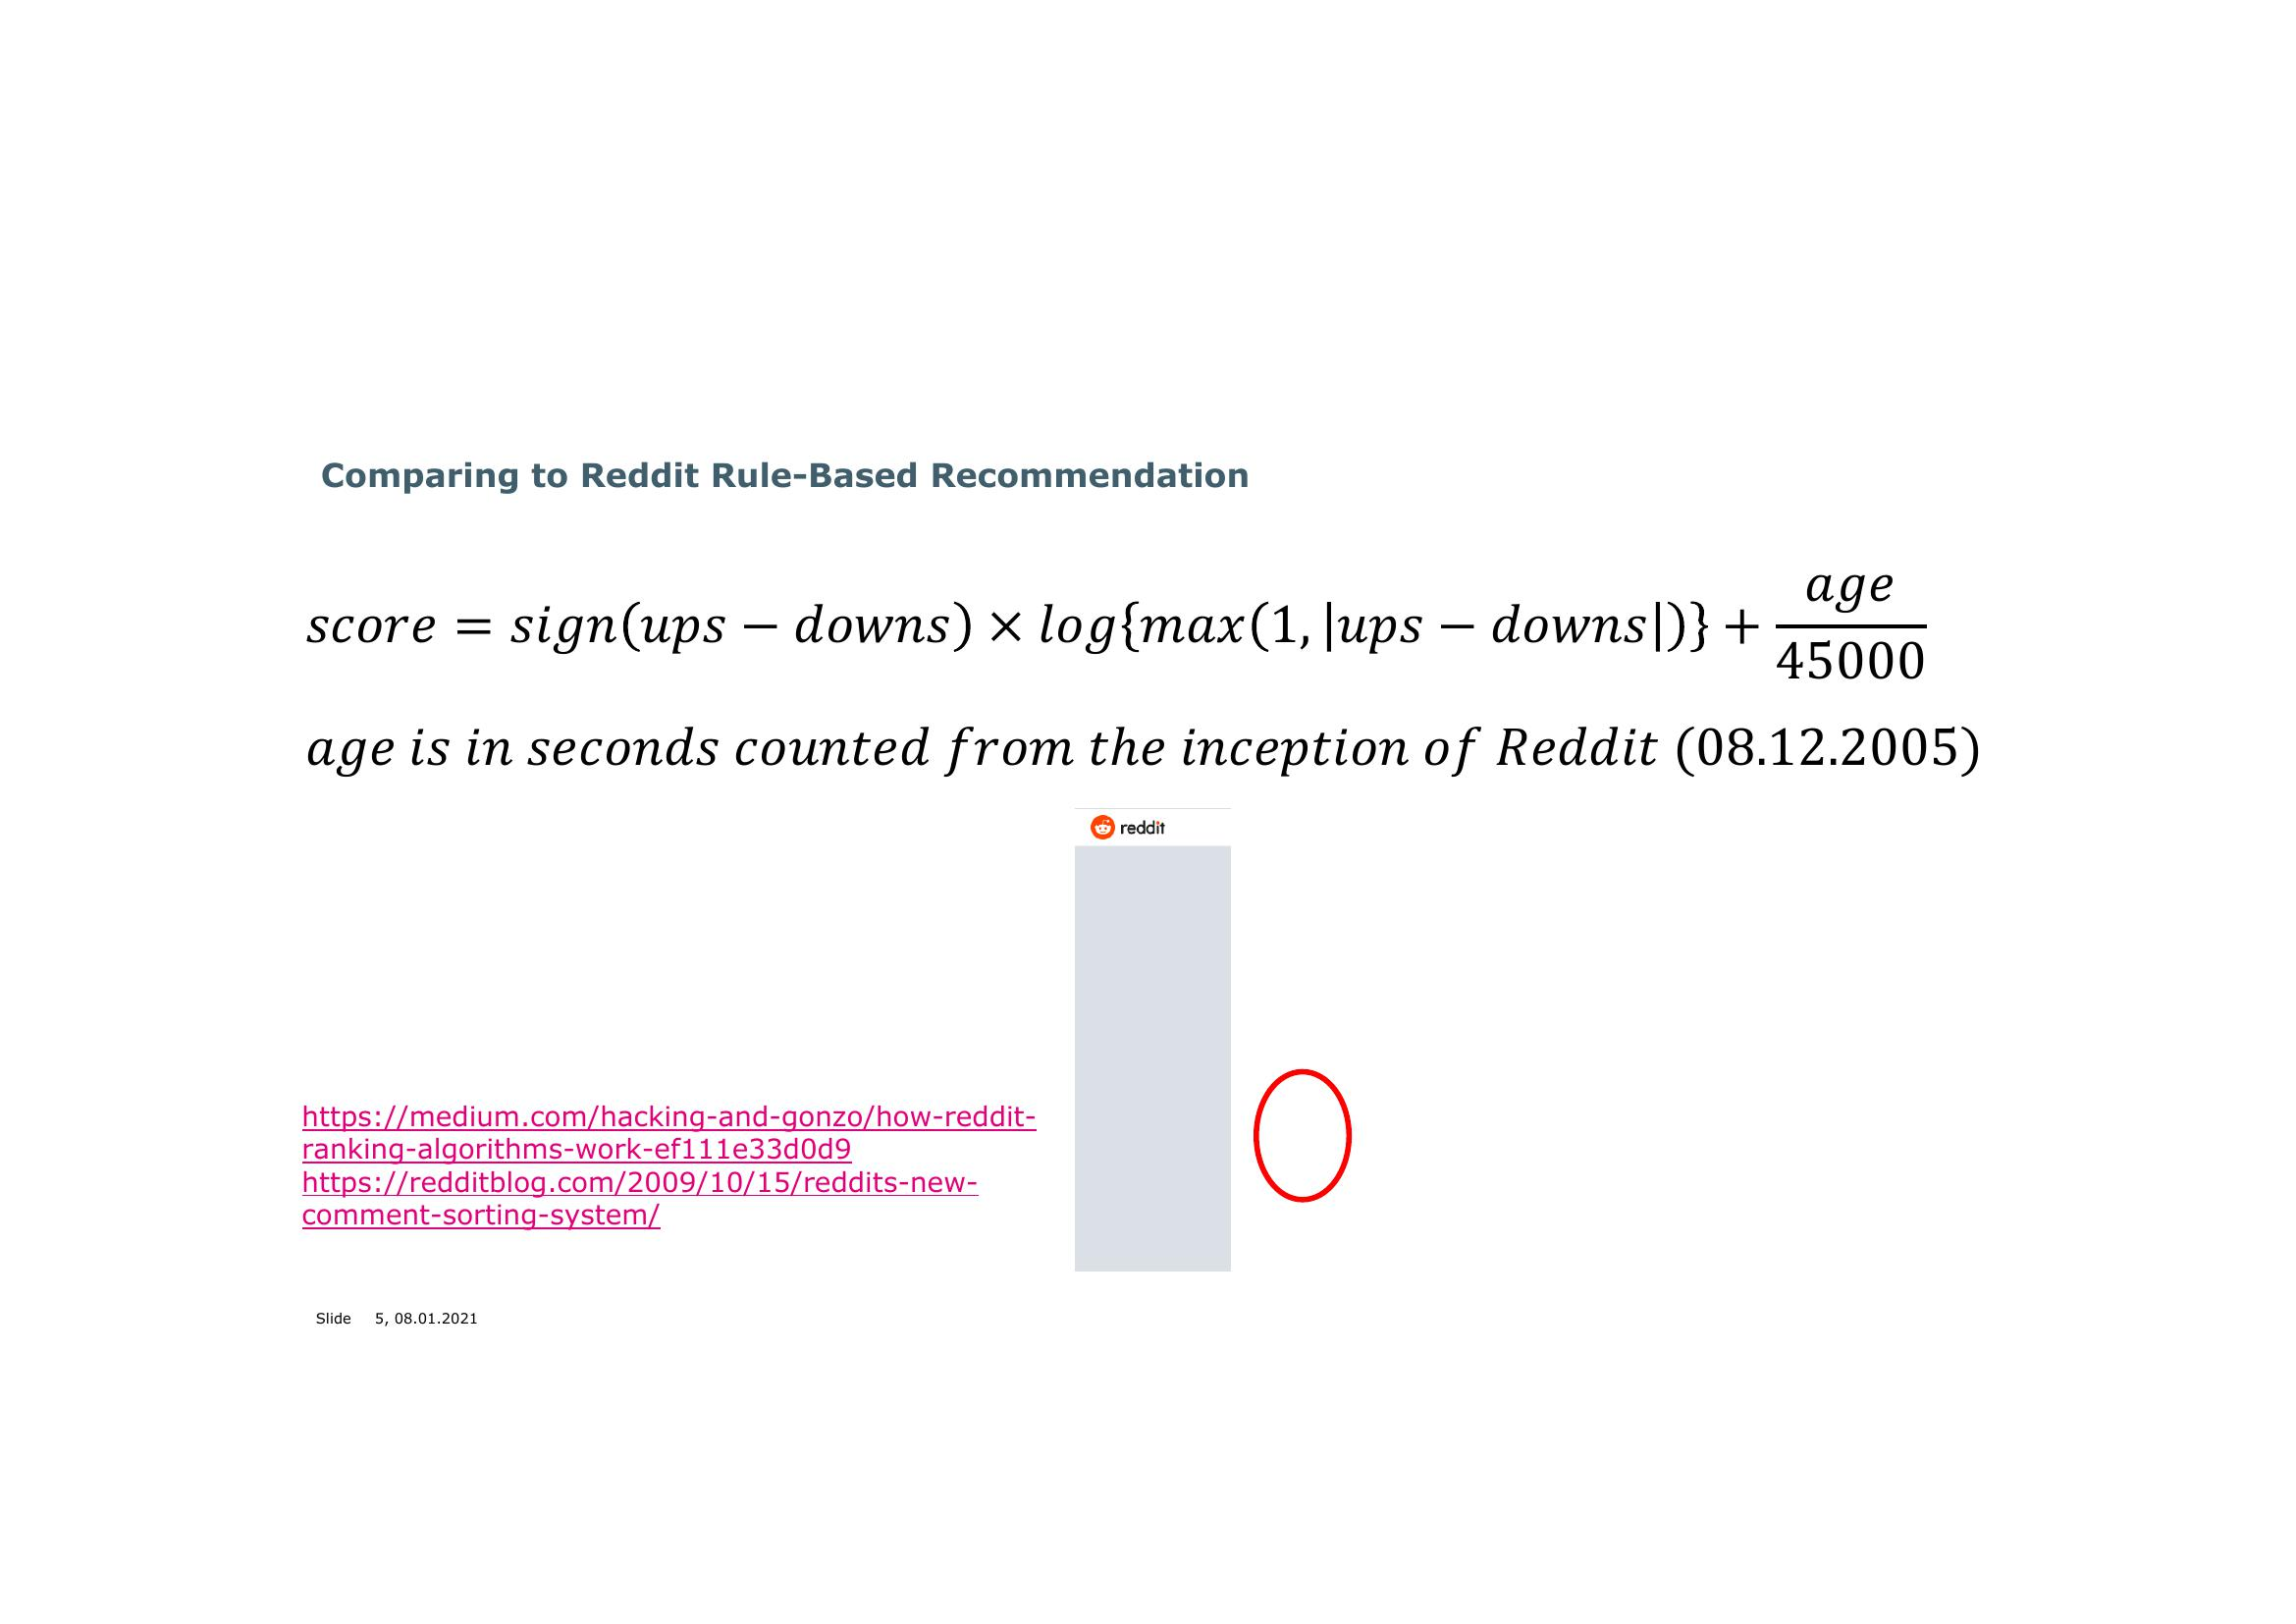Title: (302, 453, 1258, 499)
